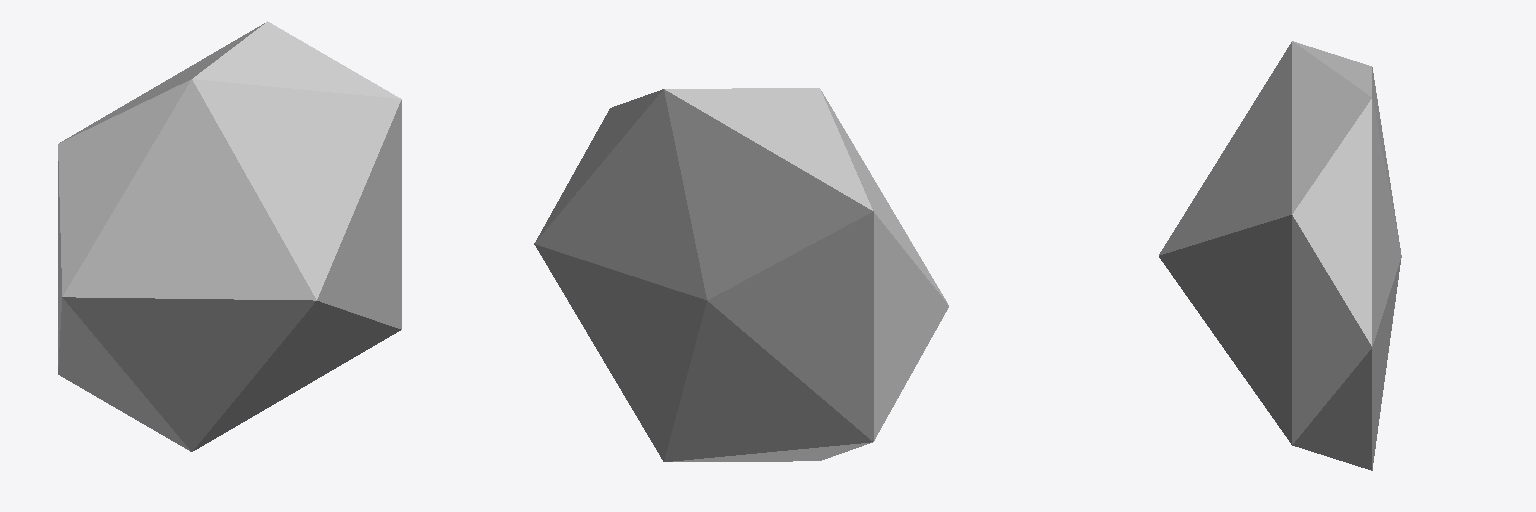
The model's file is Gem.obj.
3 renders of one model, left to right at view 1: azimuth 30°, elevation 25°; view 2: azimuth 150°, elevation 25°; view 3: azimuth 270°, elevation 25°, orthographic.
Parts seen in each view (by area): view 1: Gem_Icosphere; view 2: Gem_Icosphere; view 3: Gem_Icosphere.
Part boxes in pixels (bbox=[...]): Gem_Icosphere: bbox=[58, 21, 401, 451]; Gem_Icosphere: bbox=[534, 88, 948, 461]; Gem_Icosphere: bbox=[1159, 41, 1401, 470].
Bounding box in the file's own units: 1.79 × 1.7 × 1.01.